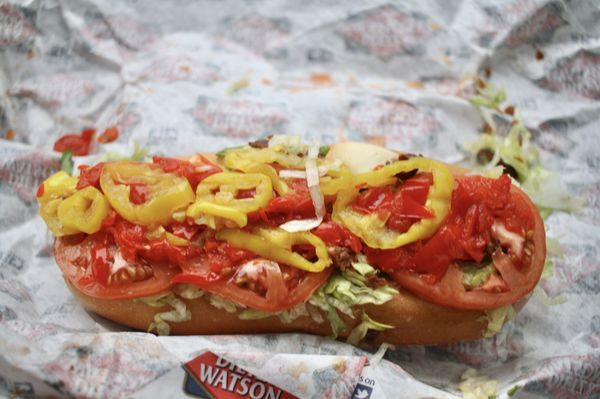burger: (24, 135, 544, 350)
